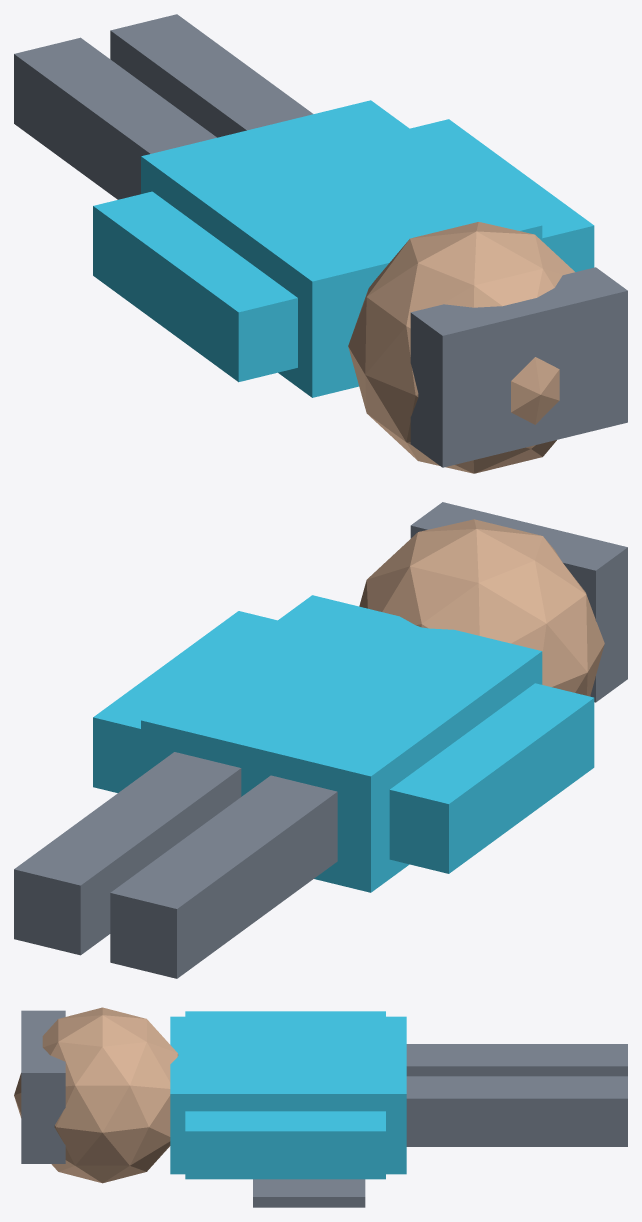
The model's file is data_ops_variant_3.glb.
3 renders of one model, top to bottom at view 1: azimuth 30°, elevation 25°; view 2: azimuth 150°, elevation 25°; view 3: azimuth 270°, elevation 25°, orthographic. The views are drawn at different scales.
Visible parts, largest first — view 1: torso_2, hair_6, head_5, arm_l_3, leg_l_0, leg_r_1, arm_r_4; view 2: torso_2, leg_l_0, head_5, arm_l_3, leg_r_1, arm_r_4, hair_6; view 3: torso_2, head_5, leg_r_1, arm_r_4, leg_l_0, hair_6, tablet_7, arm_l_3.
Boxes of the visible parts, x1,y1,x2,y2 form: torso_2: (141,100,542,397); hair_6: (410,267,627,467); head_5: (348,222,574,473); arm_l_3: (93,191,297,382); leg_l_0: (14,37,216,199); leg_r_1: (110,14,313,137); arm_r_4: (410,119,594,271); torso_2: (141,595,542,892); leg_l_0: (110,775,337,978); head_5: (359,519,604,696); arm_l_3: (389,683,594,873); leg_r_1: (14,752,241,955); arm_r_4: (93,611,277,792); hair_6: (410,502,627,702); torso_2: (170,1016,406,1174); head_5: (14,1007,178,1183); leg_r_1: (406,1076,627,1146); arm_r_4: (185,1111,385,1179); leg_l_0: (406,1044,627,1076); hair_6: (21,1010,65,1163); tablet_7: (253,1179,365,1207); arm_l_3: (185,1011,385,1016).
Bounding box in the file's own units: 0.96 × 0.6 × 2.08.
